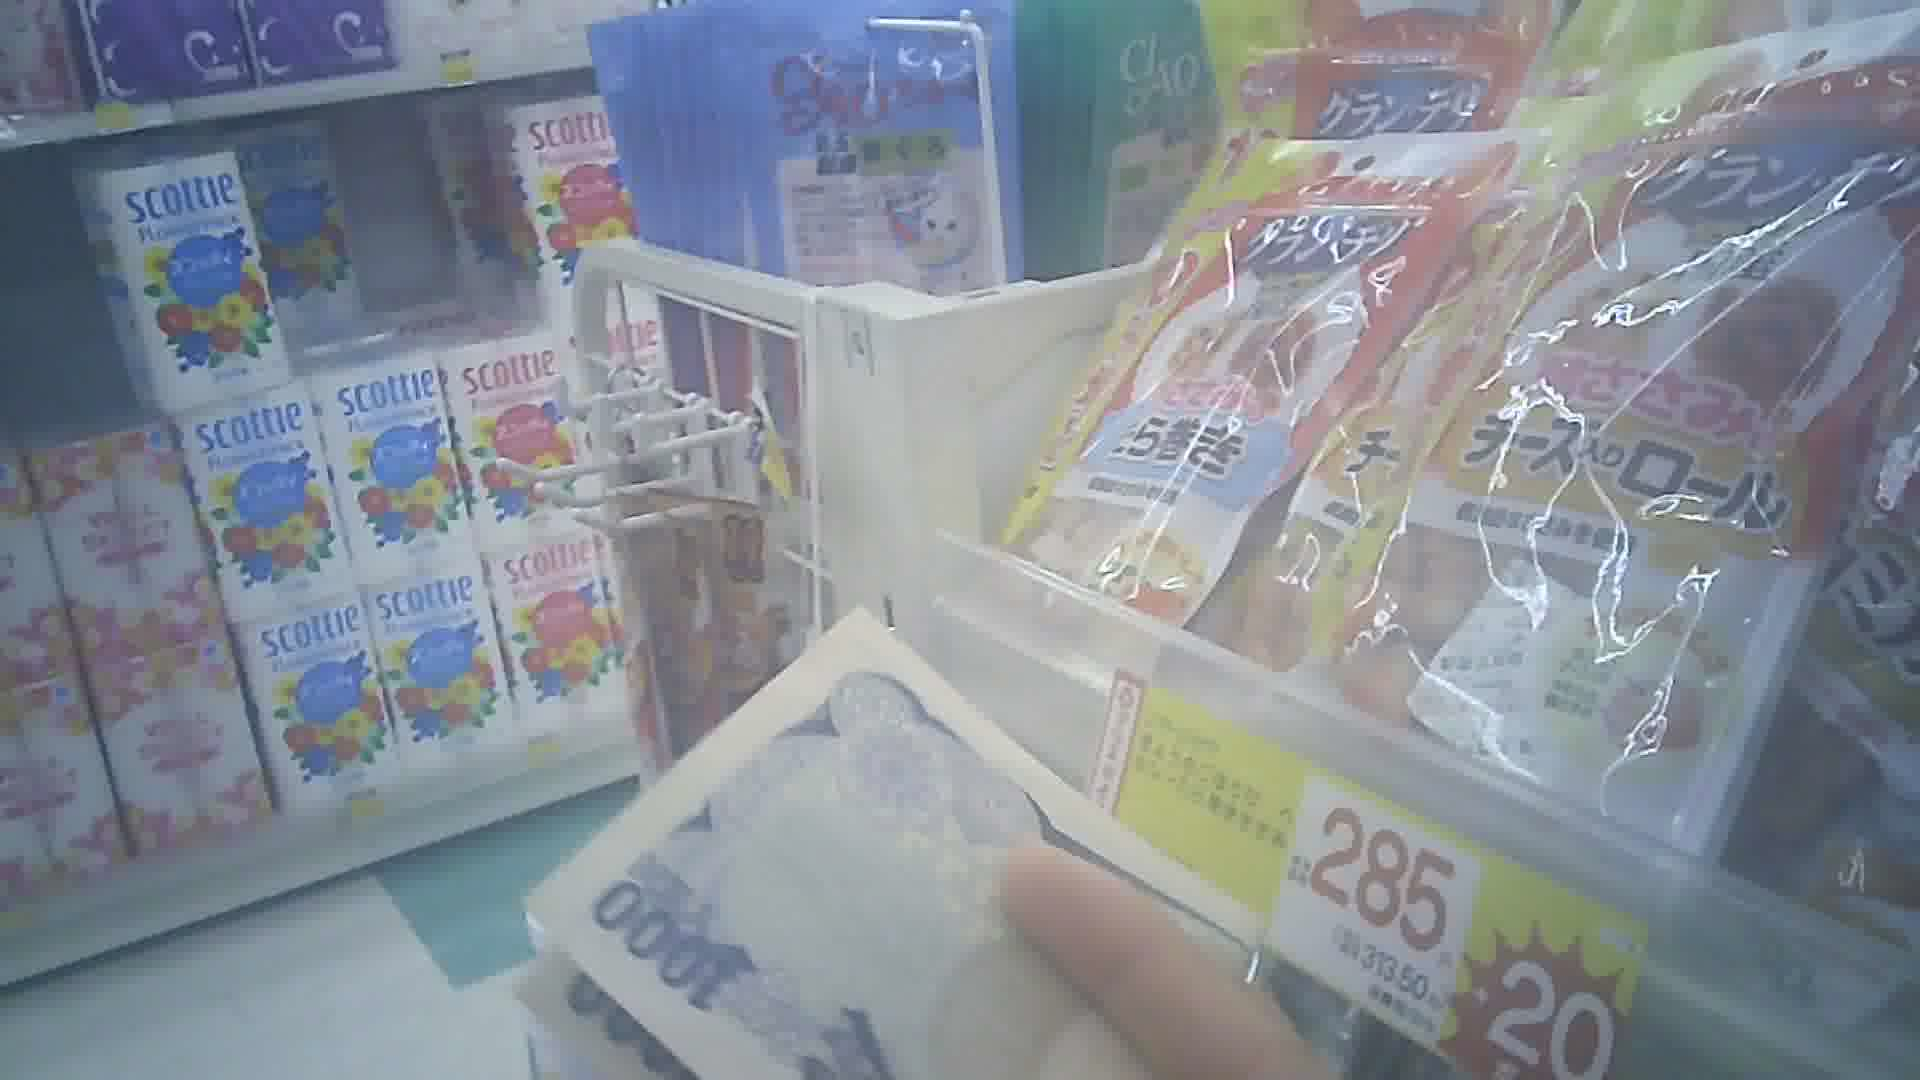1,000 Yen: (559, 600, 1259, 1058)
